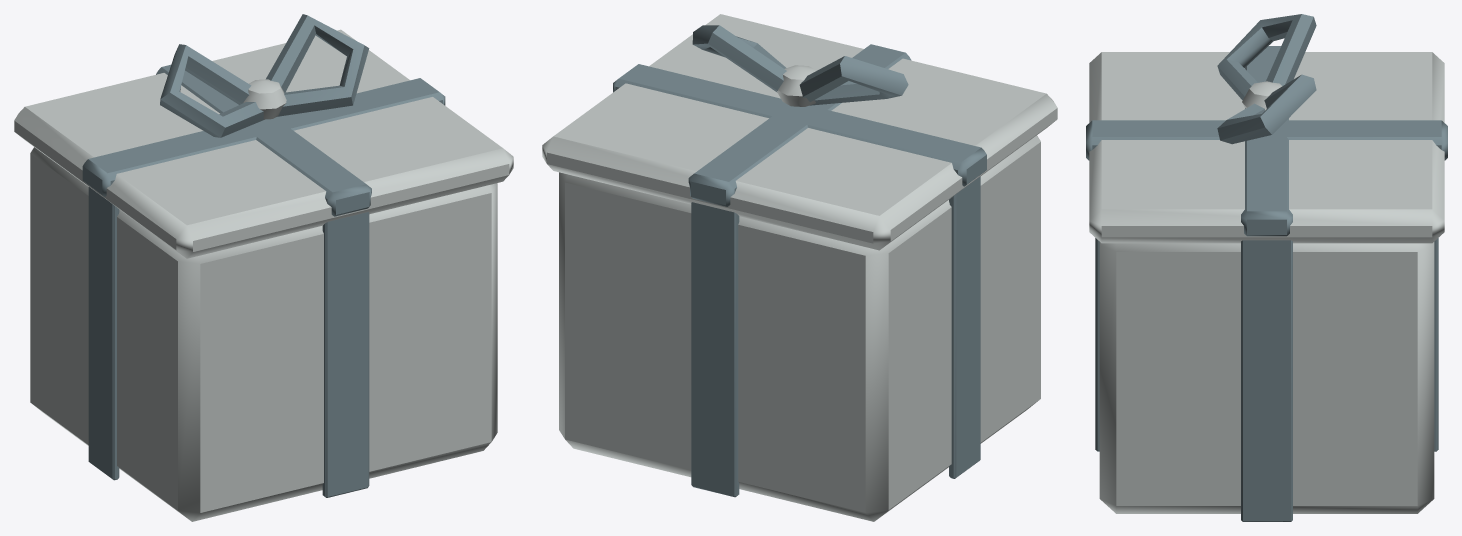
The model's file is gift-box.glb.
3 views of the same model, side by side, from view 1: azimuth 30°, elevation 25°; view 2: azimuth 150°, elevation 25°; view 3: azimuth 270°, elevation 25° (orthographic). The views are drawn at different scales.
Parts seen in each view (by area): view 1: box, lid, ribbon_end.001, ribbon_side, ribbon_horizontal, ribbon_vertical, bow_loop.001, bow_loop, bow_knot; view 2: box, lid, ribbon_end, ribbon_side, ribbon_horizontal, ribbon_vertical, bow_loop, bow_loop.001, bow_knot; view 3: box, lid, ribbon_side.001, ribbon_vertical, ribbon_horizontal, bow_loop, bow_loop.001, ribbon_end, ribbon_end.001, bow_knot.
Boxes of the visible parts, x1=… form: box: x1=30, y1=147, x2=497, y2=521; lid: x1=14, y1=29, x2=513, y2=258; ribbon_end.001: x1=322, y1=212, x2=369, y2=497; ribbon_side: x1=88, y1=187, x2=119, y2=480; ribbon_horizontal: x1=82, y1=78, x2=445, y2=196; ribbon_vertical: x1=156, y1=64, x2=371, y2=216; bow_loop.001: x1=266, y1=14, x2=369, y2=116; bow_loop: x1=160, y1=44, x2=264, y2=137; bow_knot: x1=243, y1=79, x2=286, y2=119; box: x1=559, y1=135, x2=1040, y2=521; lid: x1=542, y1=14, x2=1057, y2=250; ribbon_end: x1=691, y1=202, x2=739, y2=497; ribbon_side: x1=949, y1=176, x2=980, y2=478; ribbon_horizontal: x1=613, y1=64, x2=986, y2=186; ribbon_vertical: x1=688, y1=44, x2=911, y2=206; bow_loop: x1=799, y1=56, x2=908, y2=105; bow_loop.001: x1=692, y1=25, x2=786, y2=92; bow_knot: x1=777, y1=65, x2=816, y2=106; box: x1=1099, y1=242, x2=1434, y2=513; lid: x1=1089, y1=52, x2=1444, y2=243; ribbon_side.001: x1=1241, y1=240, x2=1292, y2=521; ribbon_vertical: x1=1086, y1=120, x2=1447, y2=160; ribbon_horizontal: x1=1241, y1=46, x2=1292, y2=236; bow_loop: x1=1217, y1=14, x2=1316, y2=100; bow_loop.001: x1=1217, y1=74, x2=1316, y2=144; ribbon_end: x1=1434, y1=238, x2=1438, y2=451; ribbon_end.001: x1=1095, y1=238, x2=1099, y2=451; bow_knot: x1=1242, y1=81, x2=1282, y2=110.
Size of the model in its own units: 0.193 by 0.2096 by 0.173.
